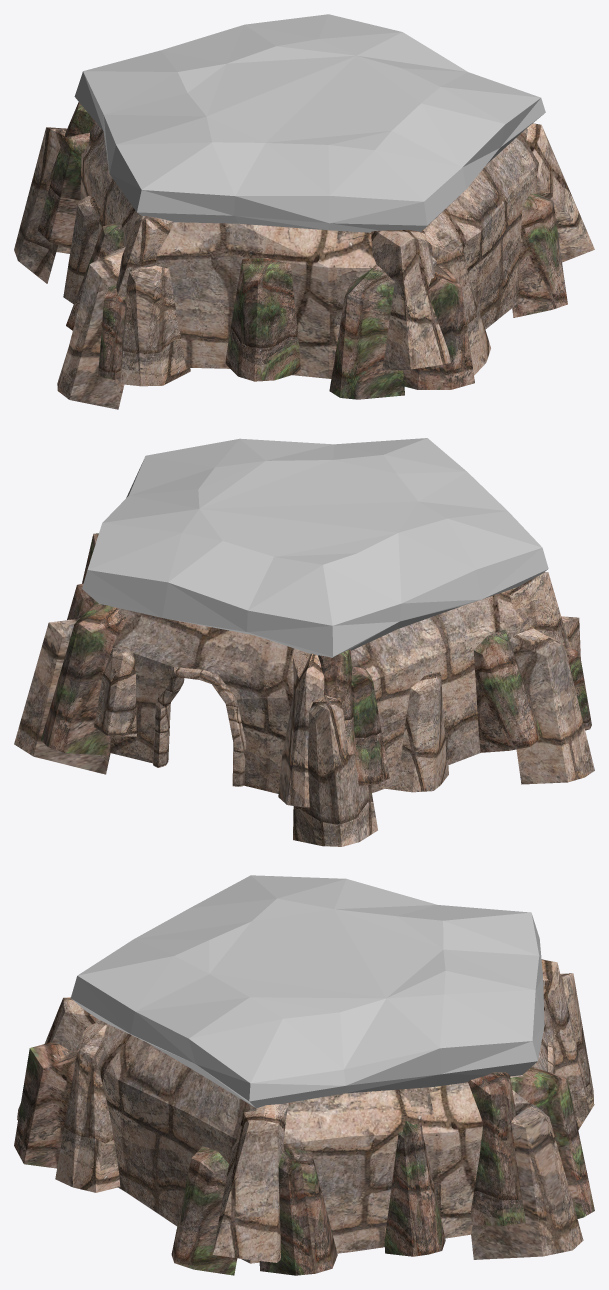
Rendered from thm_dant_large_communal_l1.fbx.
The picture shows the model from 3 angles, top to bottom: view 1: azimuth 30°, elevation 25°; view 2: azimuth 150°, elevation 25°; view 3: azimuth 270°, elevation 25°; orthographic projection. The views are drawn at different scales.
Parts seen in each view (by area): view 1: mesh_node; view 2: mesh_node; view 3: mesh_node.
Boxes of the visible parts, x1=… form: mesh_node: x1=14, y1=14, x2=594, y2=409; mesh_node: x1=14, y1=438, x2=594, y2=846; mesh_node: x1=14, y1=875, x2=594, y2=1275.
Size of the model in its own units: 32 by 13.87 by 30.57.
